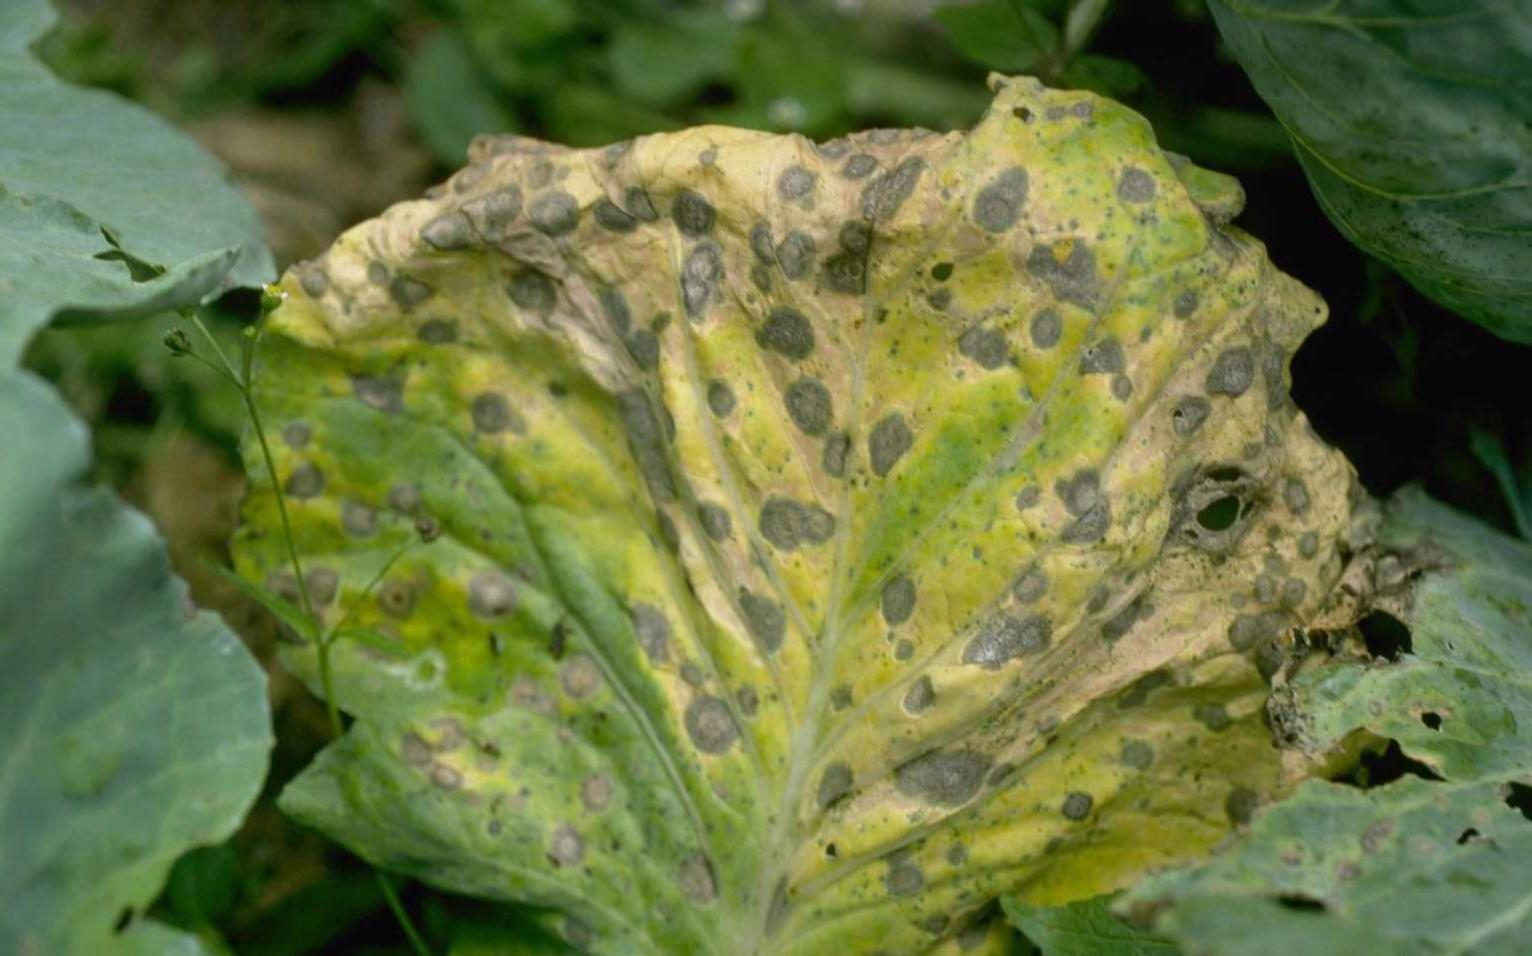Tomato leaf bacterial spot: (204, 84, 1386, 956)
